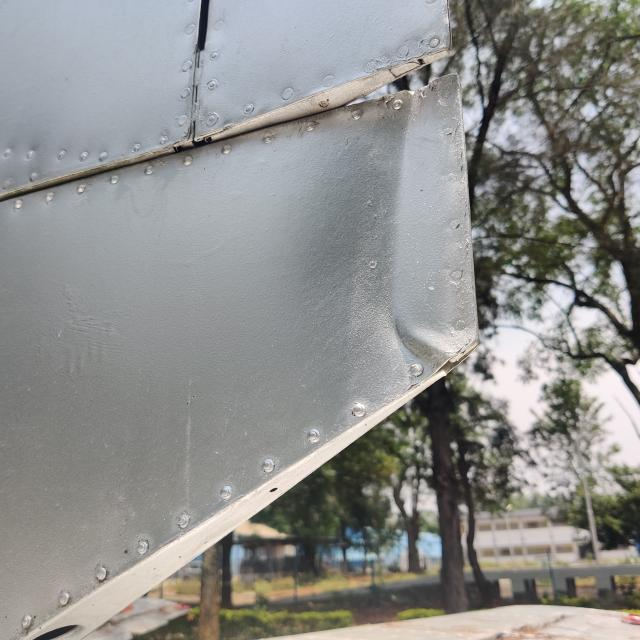dent: (373, 294, 478, 388)
